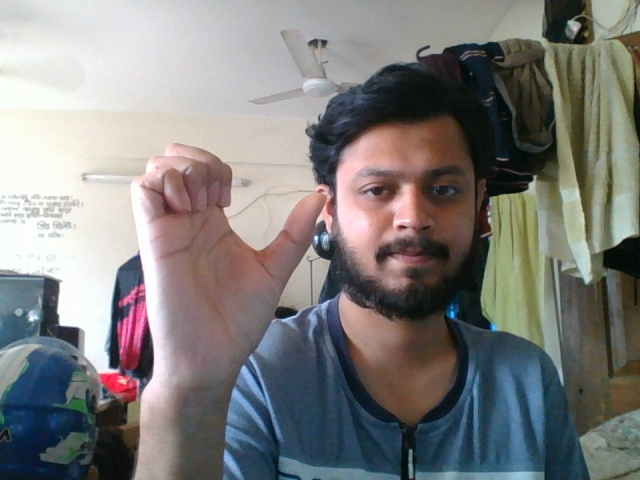kha: (128, 136, 332, 415)
